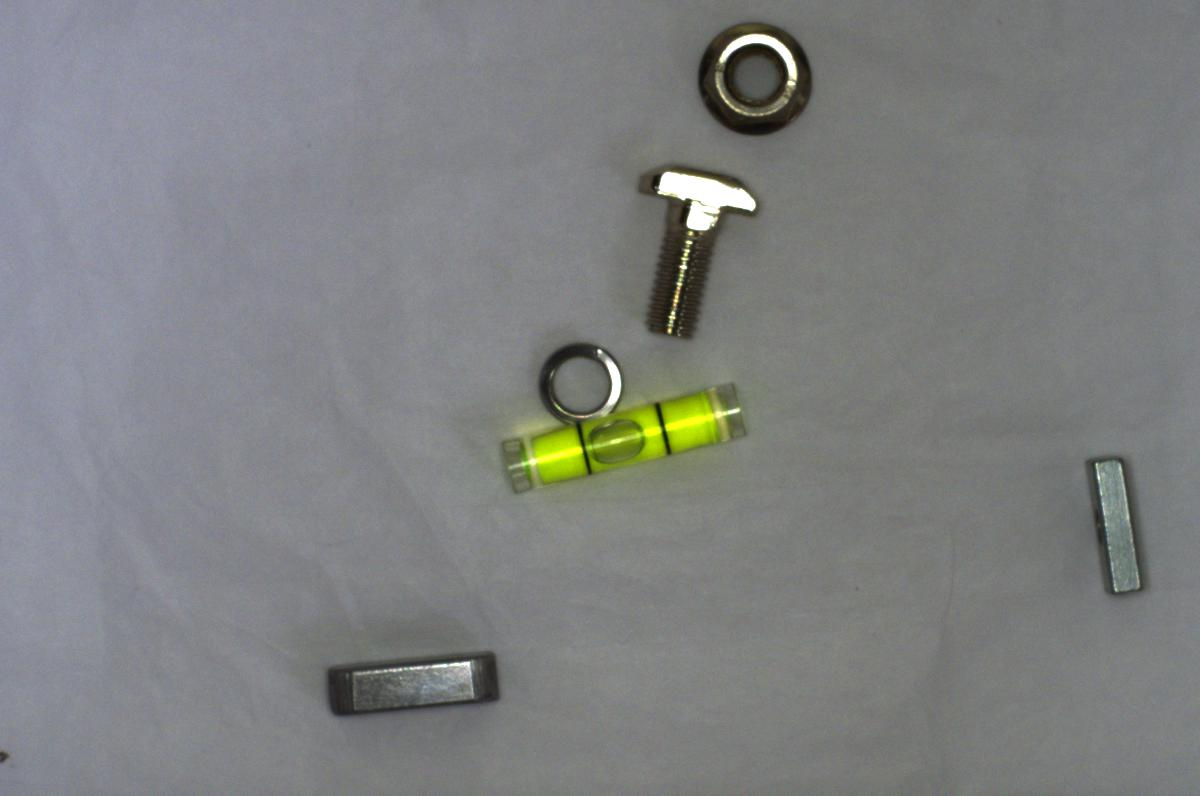Flange nut: (681, 12, 831, 140)
Horizontal bubble: (491, 379, 753, 505)
Keybar: (320, 646, 512, 718)
Rectangular nut: (1073, 447, 1150, 608)
Spring washer: (532, 335, 626, 422)
T-shaped screw: (626, 147, 764, 347)
